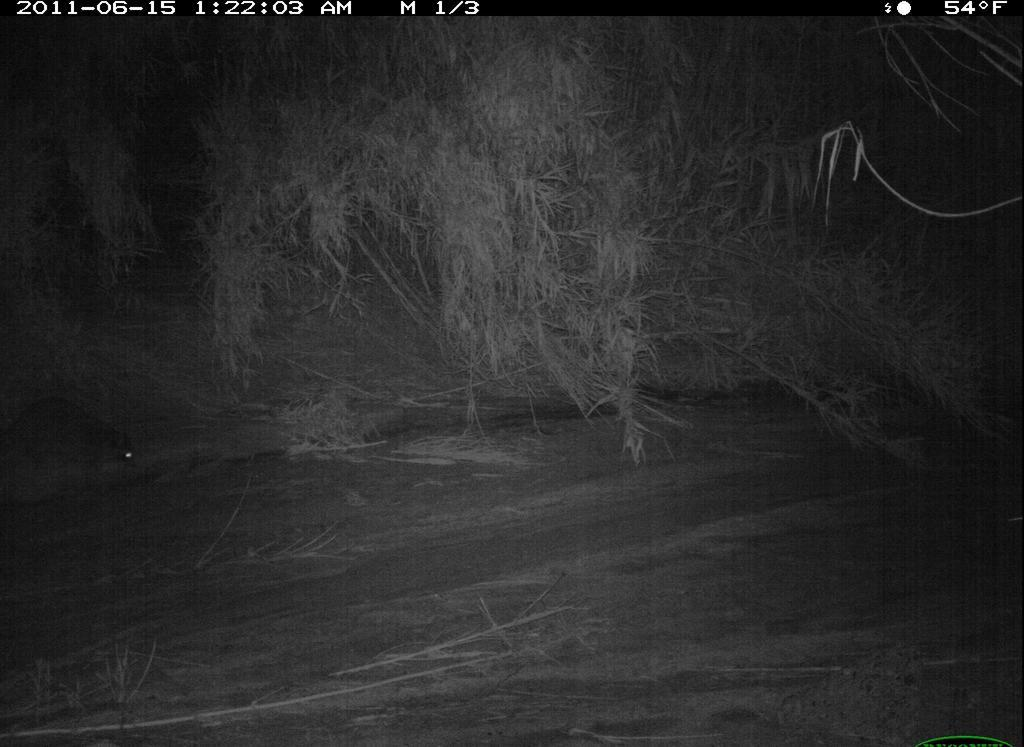raccoon: (3, 396, 148, 492)
